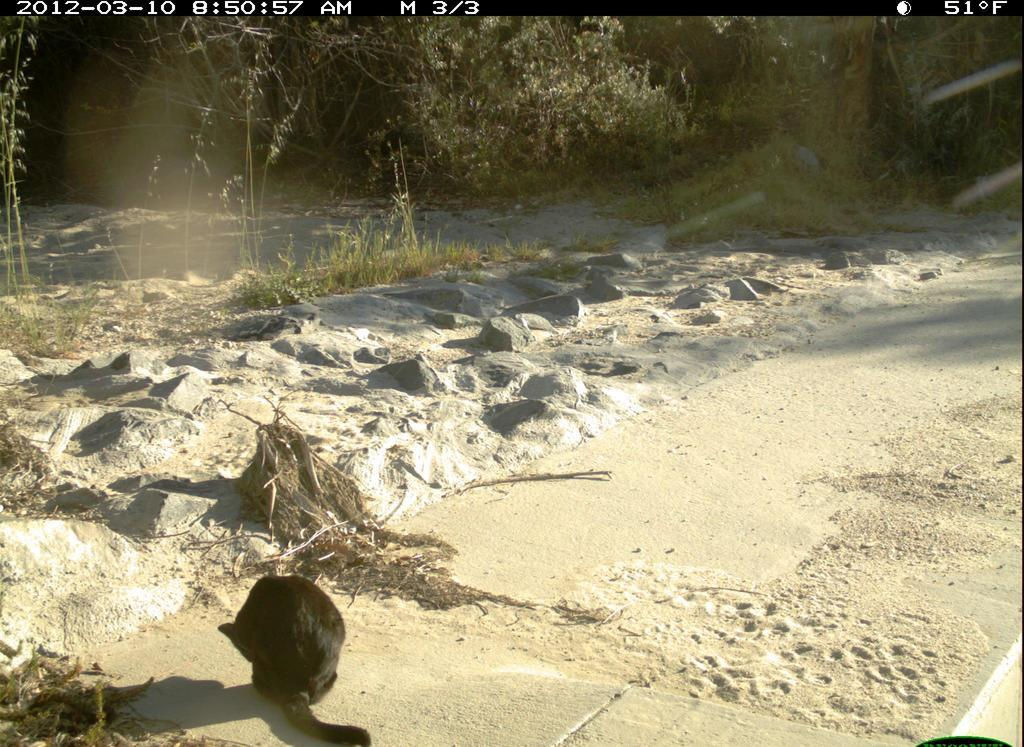cat: (216, 565, 401, 745)
